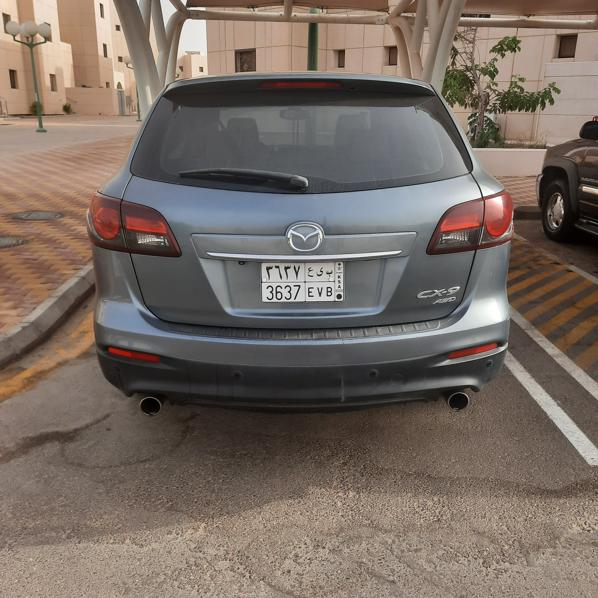numberplate: (261, 260, 345, 303)
